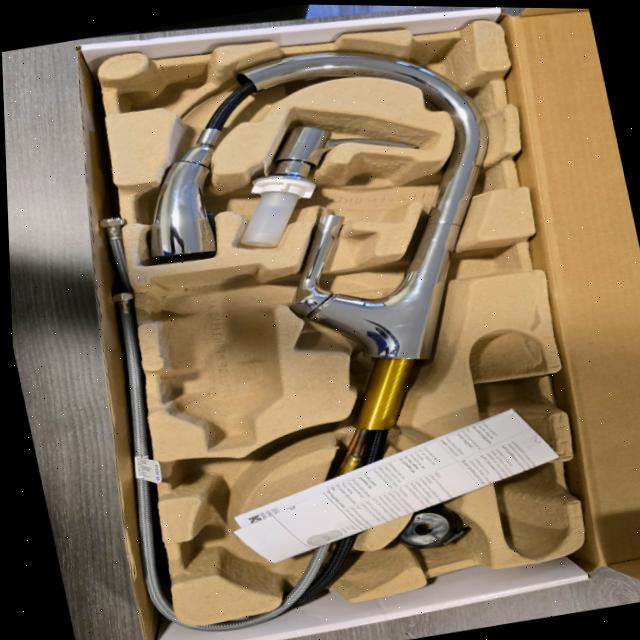1o: (147, 51, 488, 611)
2: (240, 125, 421, 247)
3m: (153, 265, 282, 453)
4m: (469, 330, 568, 558)
5: (402, 508, 470, 547)
6m: (172, 530, 285, 590)
7m: (162, 440, 297, 519)
8: (232, 408, 560, 562)
